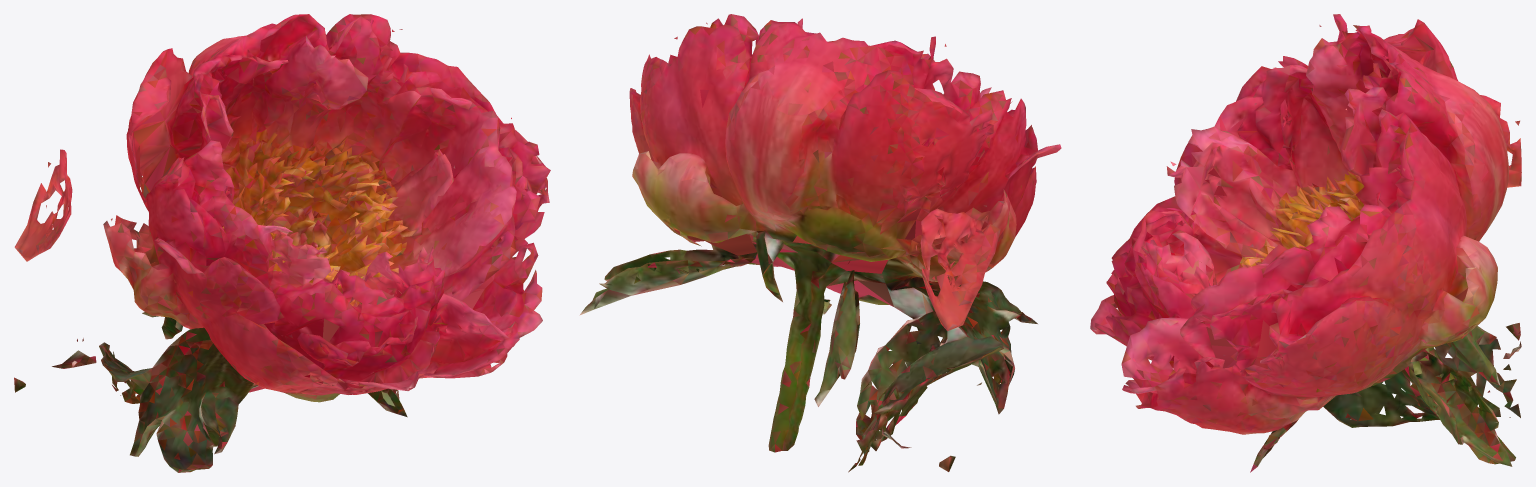
Rendered from peony.glb.
3 views of the same model, side by side, from view 1: azimuth 30°, elevation 25°; view 2: azimuth 150°, elevation 25°; view 3: azimuth 270°, elevation 25° (orthographic). The views are drawn at different scales.
Visible parts, largest first — view 1: model; view 2: model; view 3: model.
Part boxes in pixels (<box>): model: <box>14,14,550,472</box>; model: <box>579,14,1061,472</box>; model: <box>1090,14,1521,472</box>.
Size of the model in its own units: 0.1455 by 0.1271 by 0.1207.
Materials: 1 (1 with a texture image).
